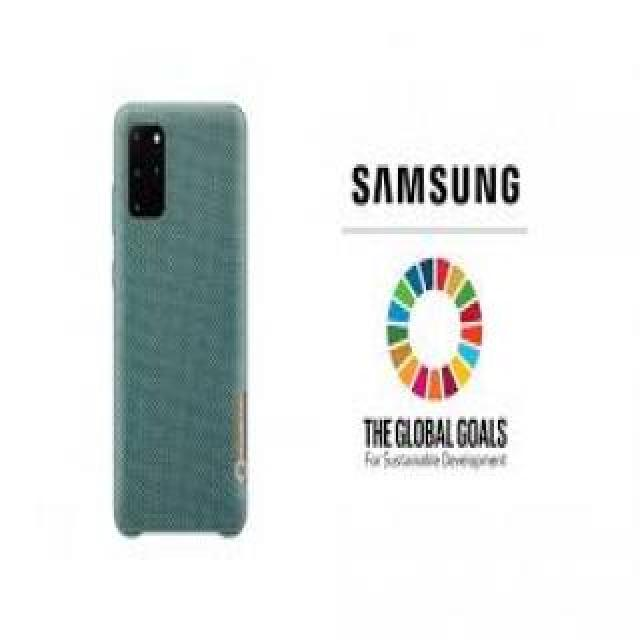smart phone: (76, 71, 272, 552)
